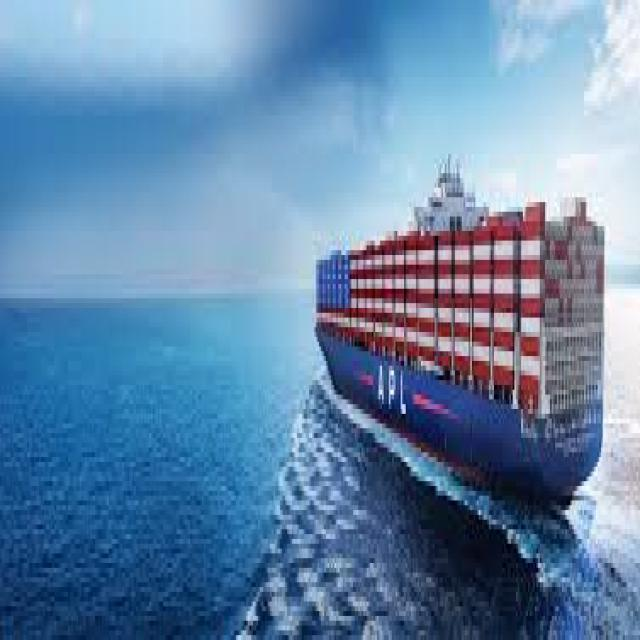cargoship: (309, 148, 608, 500)
